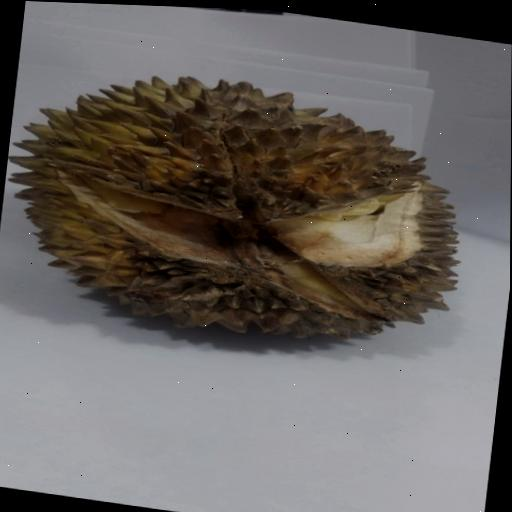rot: (0, 36, 512, 388)
